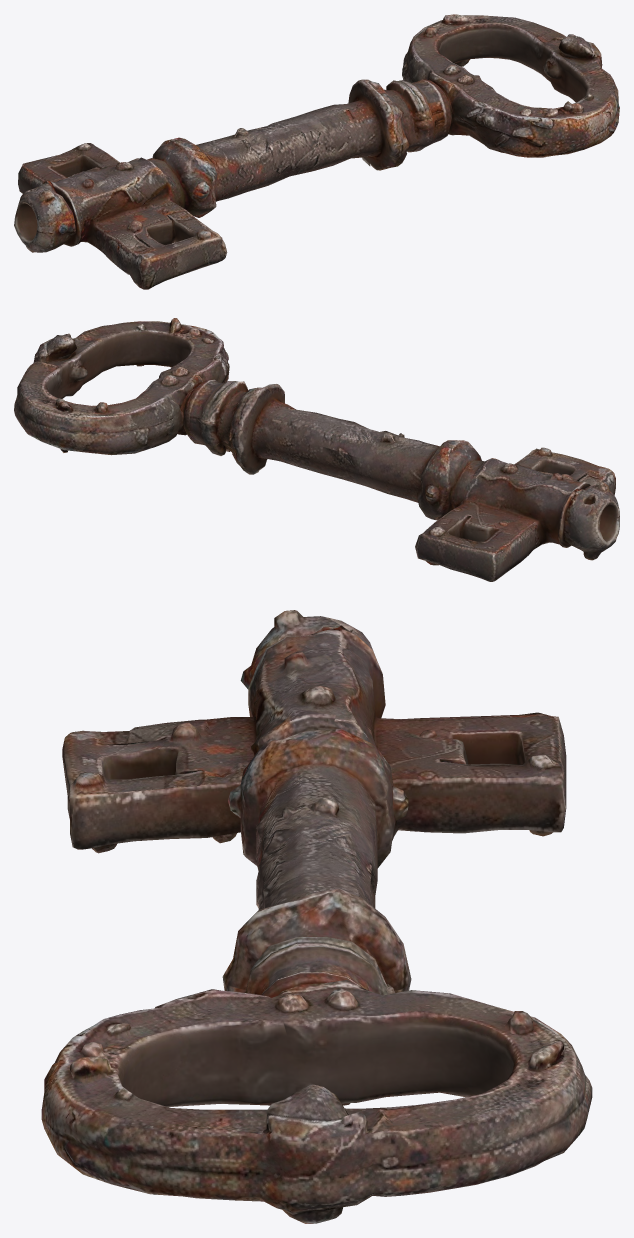
File: key.glb
3 renders of one model, top to bottom at view 1: azimuth 30°, elevation 25°; view 2: azimuth 150°, elevation 25°; view 3: azimuth 270°, elevation 25°, orthographic. The views are drawn at different scales.
Visible parts, largest first — view 1: tripo_node_b08ef08a-6f7c-4213-be25-d4b53efaa8b8; view 2: tripo_node_b08ef08a-6f7c-4213-be25-d4b53efaa8b8; view 3: tripo_node_b08ef08a-6f7c-4213-be25-d4b53efaa8b8.
Part boxes in pixels (<box>): tripo_node_b08ef08a-6f7c-4213-be25-d4b53efaa8b8: <box>14,14,619,289</box>; tripo_node_b08ef08a-6f7c-4213-be25-d4b53efaa8b8: <box>14,318,619,581</box>; tripo_node_b08ef08a-6f7c-4213-be25-d4b53efaa8b8: <box>41,610,592,1223</box>.
Bounding box in the file's own units: 0.9763 × 0.1509 × 0.407.
1 material, 1 textured.
